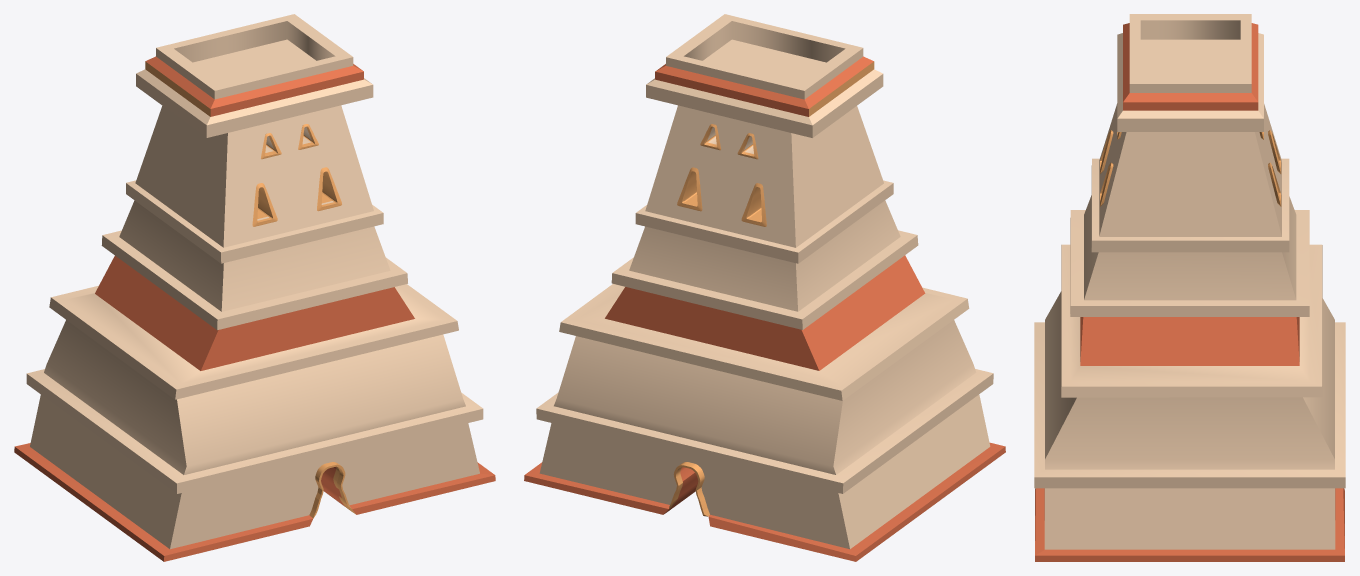
3 renders of one model, left to right at view 1: azimuth 30°, elevation 25°; view 2: azimuth 150°, elevation 25°; view 3: azimuth 270°, elevation 25°, orthographic. The views are drawn at different scales.
Parts seen in each view (by area): view 1: background building 2.005; view 2: background building 2.005; view 3: background building 2.005.
Part boxes in pixels (bbox=[...]): background building 2.005: bbox=[14, 14, 495, 561]; background building 2.005: bbox=[524, 14, 1005, 561]; background building 2.005: bbox=[1034, 14, 1345, 561].
Bounding box in the file's own units: 799 × 955 × 627.
